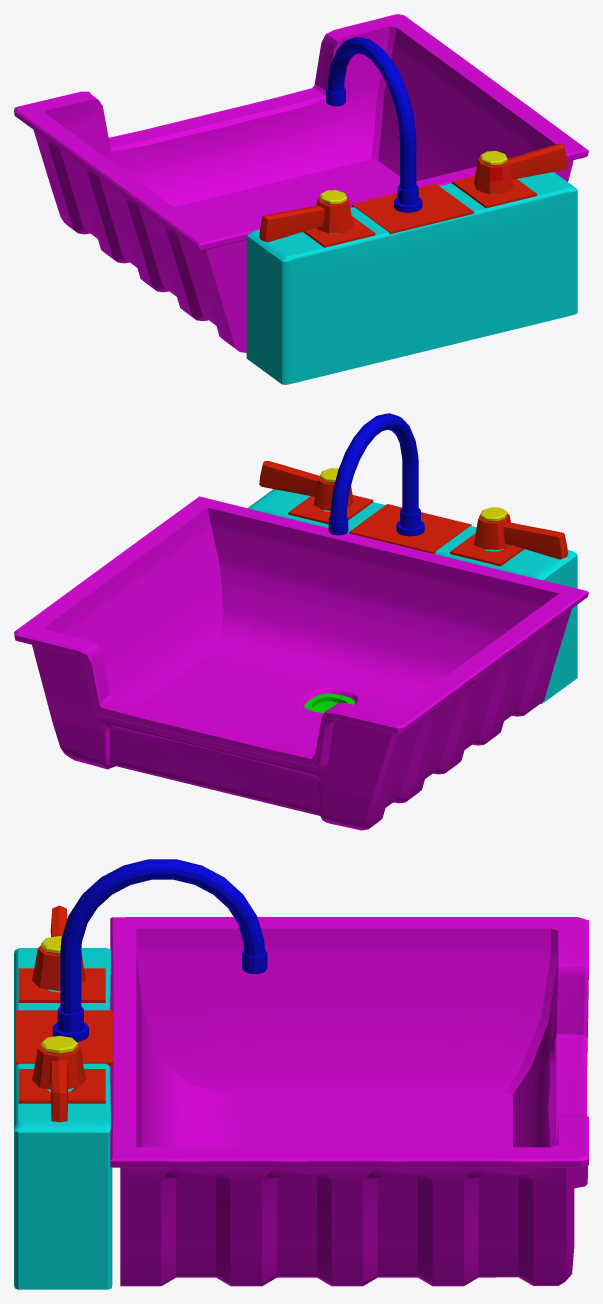
The model's file is kitchenfaucet.fbx.
3 renders of one model, top to bottom at view 1: azimuth 30°, elevation 25°; view 2: azimuth 150°, elevation 25°; view 3: azimuth 270°, elevation 25°, orthographic. The views are drawn at different scales.
Visible parts, largest first — view 1: Cube; view 2: Cube; view 3: Cube.
Boxes of the visible parts, x1,y1,x2,y2 form: Cube: [14, 14, 588, 384]; Cube: [14, 413, 588, 830]; Cube: [14, 859, 588, 1289].
Size of the model in its own units: 49.97 by 32.25 by 49.9.
